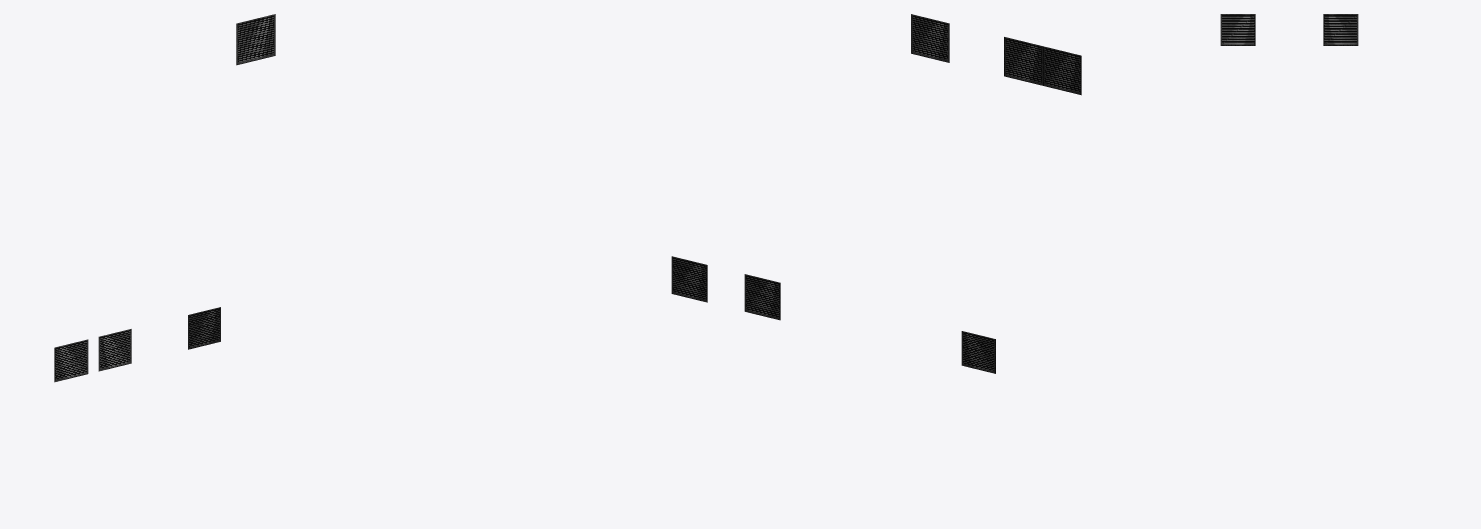
The model's file is Aztec_Alpha_99.glb.
3 views of the same model, side by side, from view 1: azimuth 30°, elevation 25°; view 2: azimuth 150°, elevation 25°; view 3: azimuth 270°, elevation 25° (orthographic). The views are drawn at different scales.
Visible parts, largest first — view 1: Aztec_Alpha_99; view 2: Aztec_Alpha_99; view 3: Aztec_Alpha_99.
Boxes of the visible parts, <box> form: Aztec_Alpha_99: <box>54,14,275,382</box>; Aztec_Alpha_99: <box>671,14,1081,373</box>; Aztec_Alpha_99: <box>1220,14,1358,45</box>.
Bounding box in the file's own units: 57.5 × 44.25 × 45.62.
Materials: 1 (1 with a texture image).
